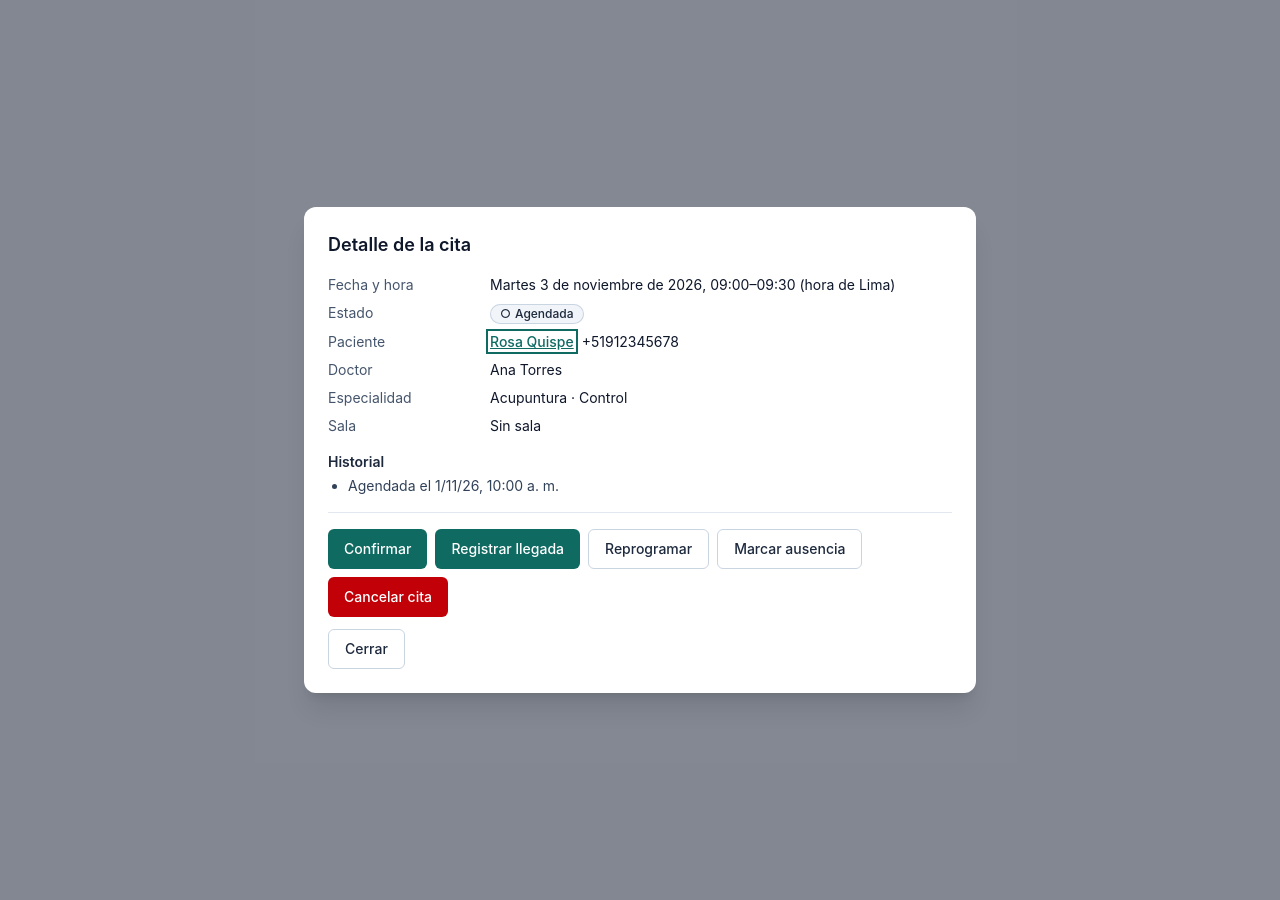
Test: AppointmentDetailDialog: acciones › cancelar exige motivo: sin motivo no hay petición; con motivo se envía {reason}
The image size is (1280, 900).
Click the button "Cancelar cita".
click(388, 597)  # box top-left (328, 577), bottom-right (448, 617)
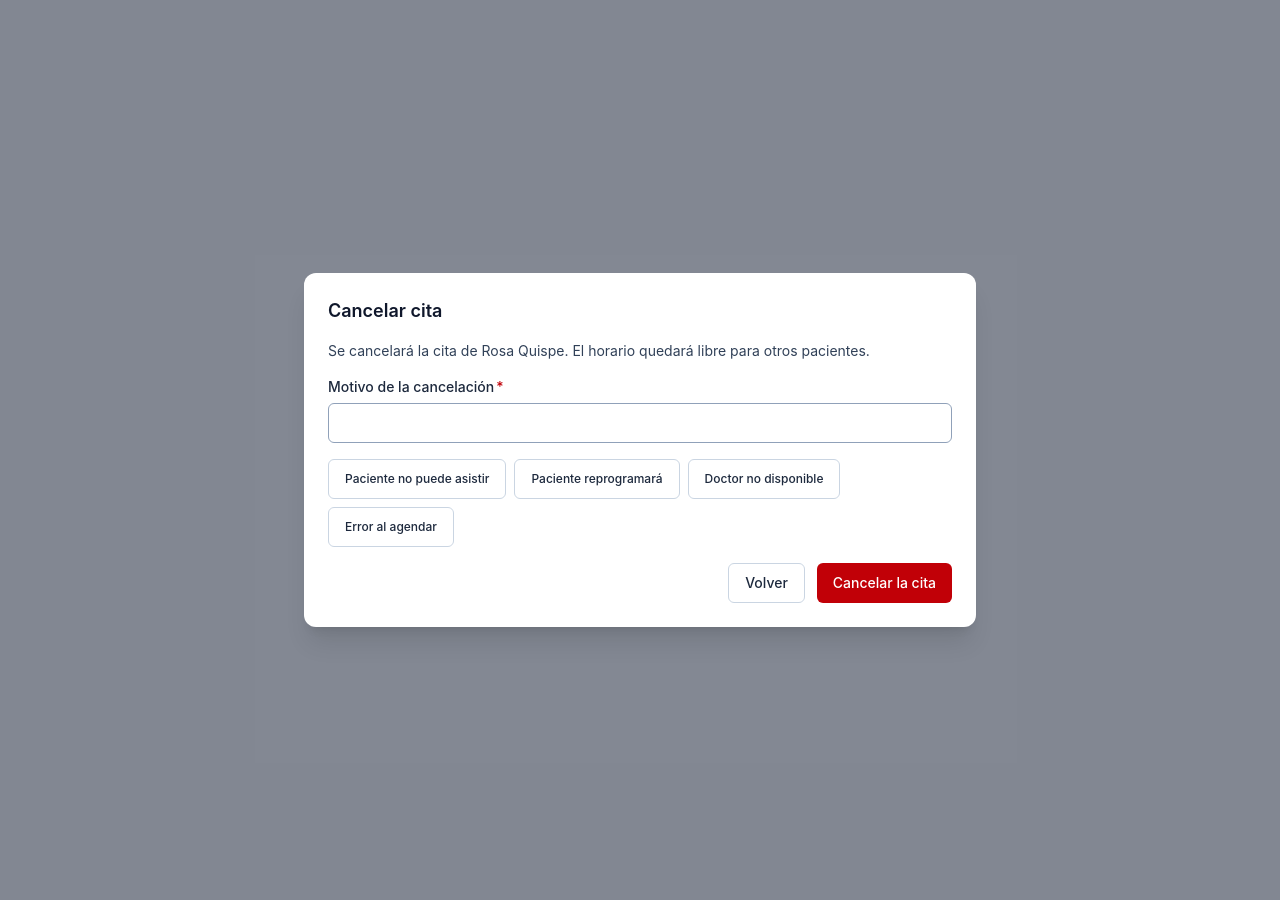
Click the button "Cancelar la cita".
click(884, 583)  # box top-left (817, 563), bottom-right (952, 603)
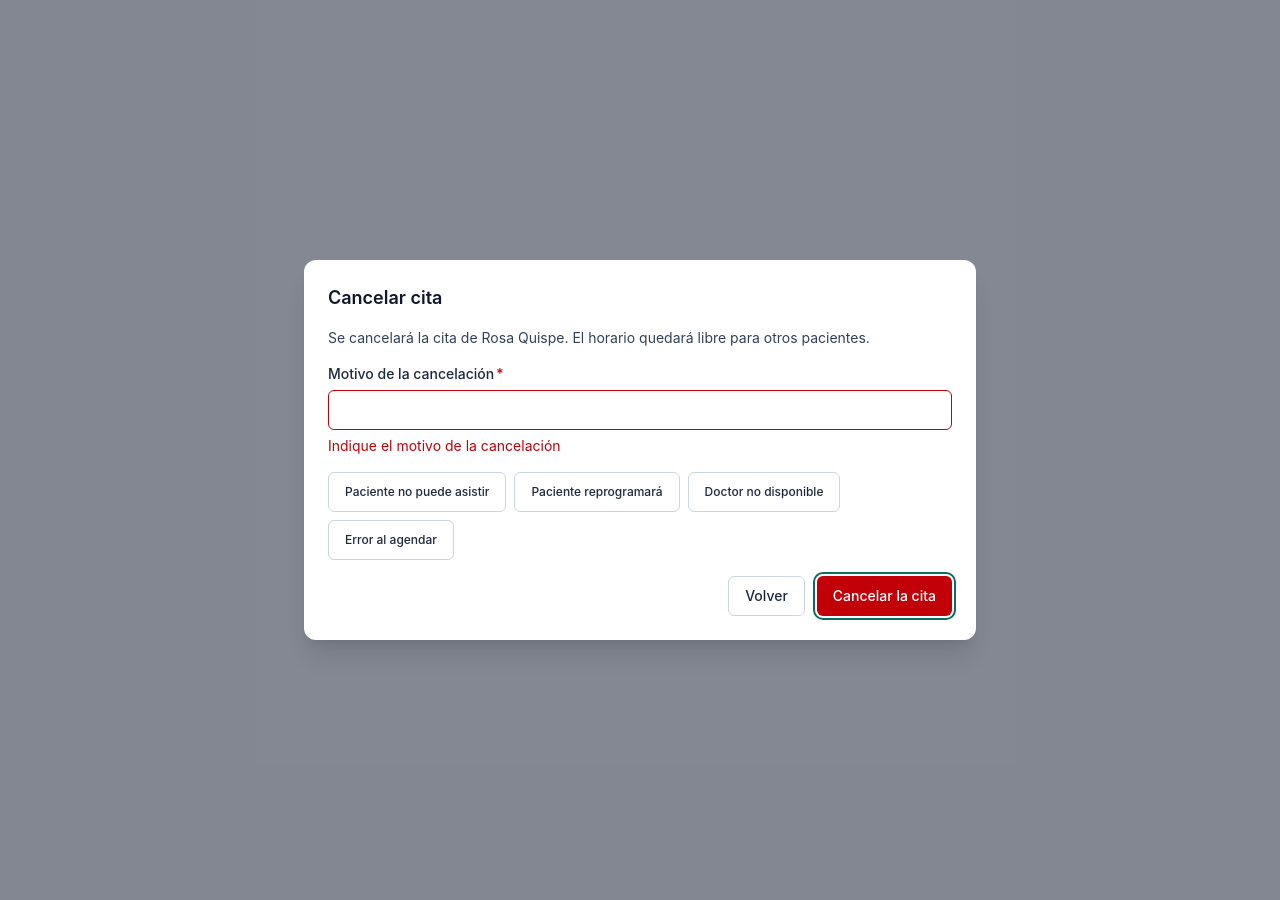
Expected: the text "Indique el motivo de la cancelación" is shown, top-left (328, 437), bottom-right (561, 454)
Type "Viaja" into the field labelled "Motivo de la cancelación*".
click(640, 410); type("Viaja")  # box top-left (328, 390), bottom-right (952, 430)
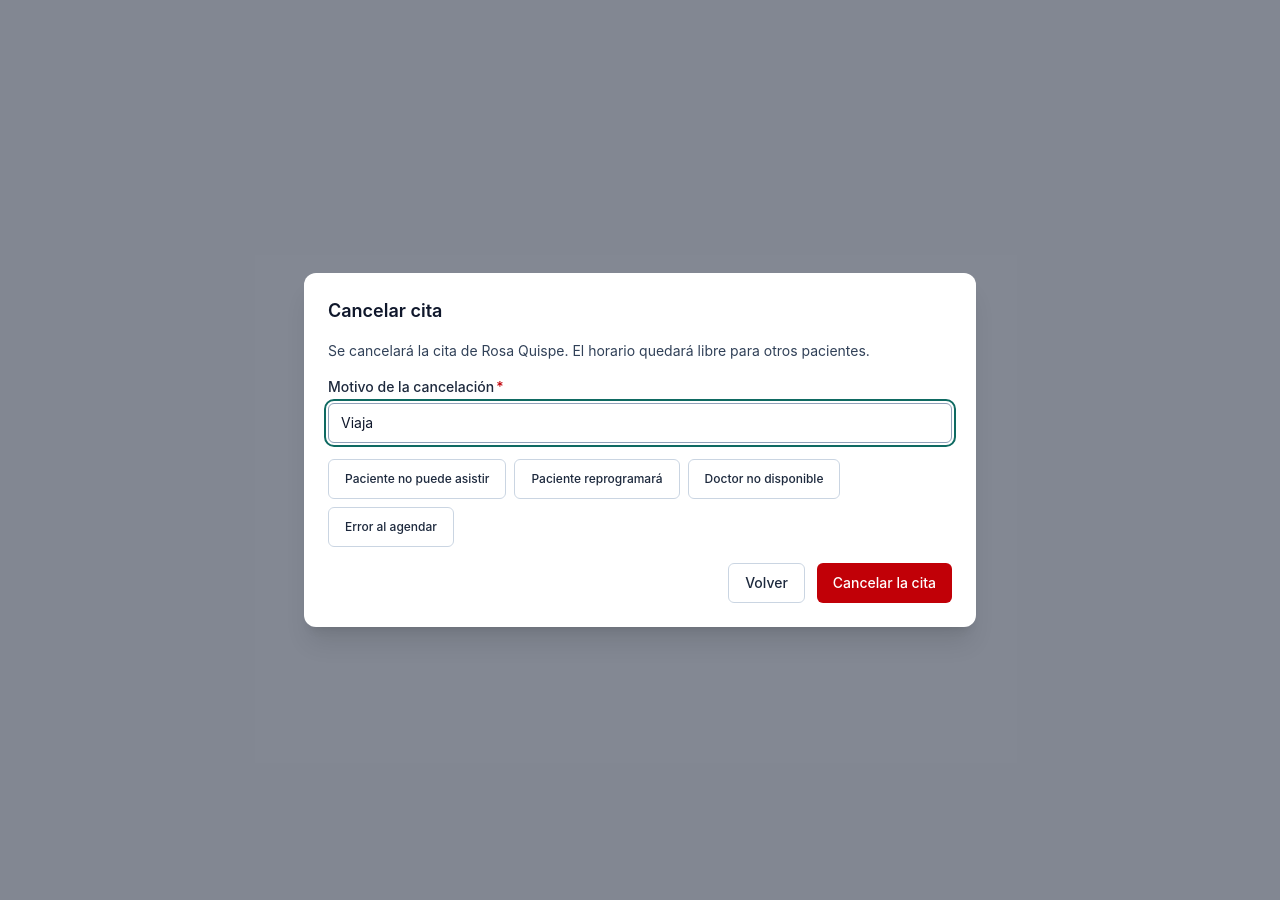
Click the button "Cancelar la cita".
click(884, 583)  # box top-left (817, 563), bottom-right (952, 603)
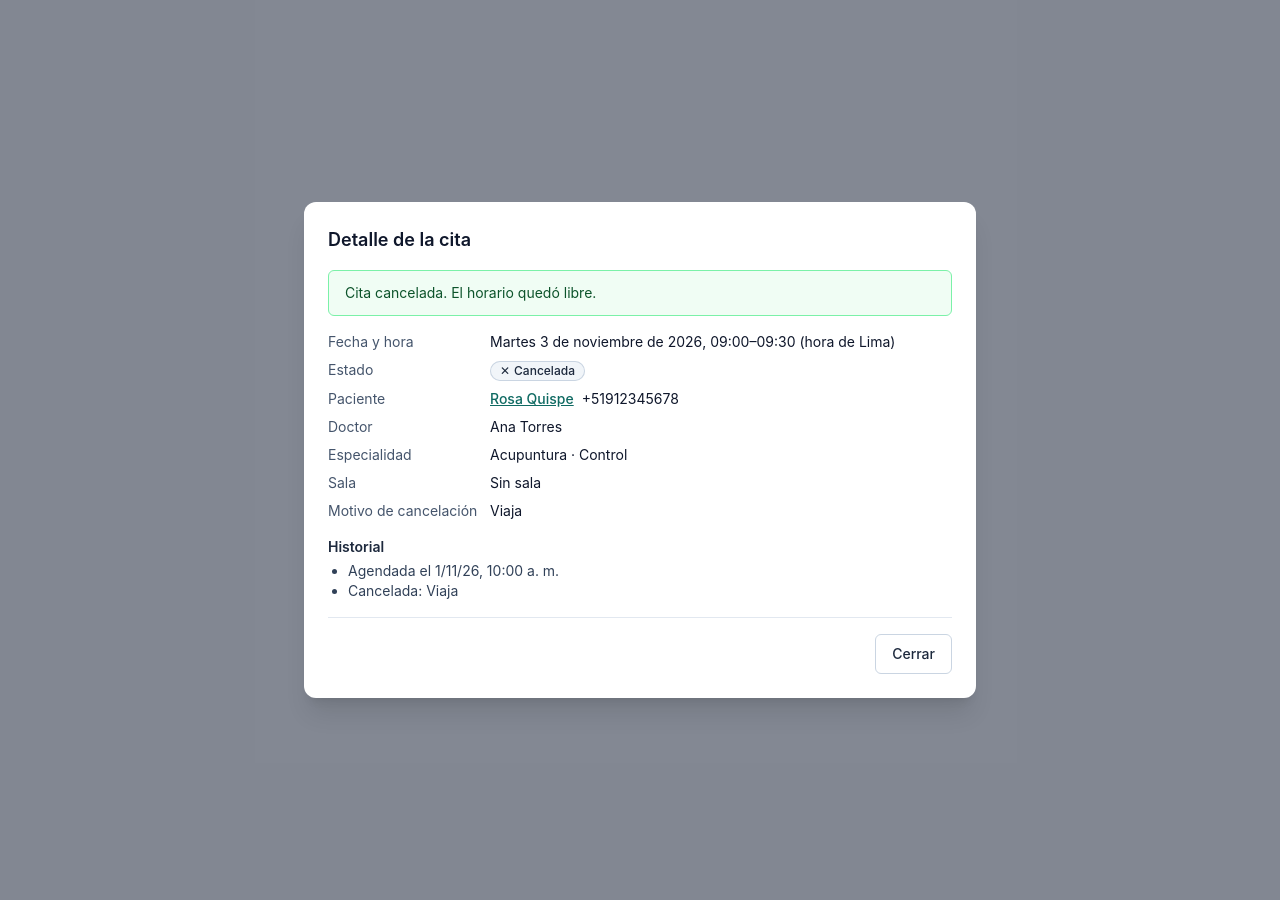
Expected: the text "Cita cancelada. El horario quedó libre." is shown, top-left (345, 284), bottom-right (596, 301)
Expected: the text "Viaja" is shown, top-left (490, 502), bottom-right (522, 519)
